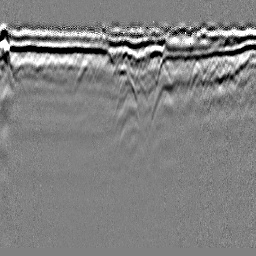cavity: (118, 72, 138, 104)
